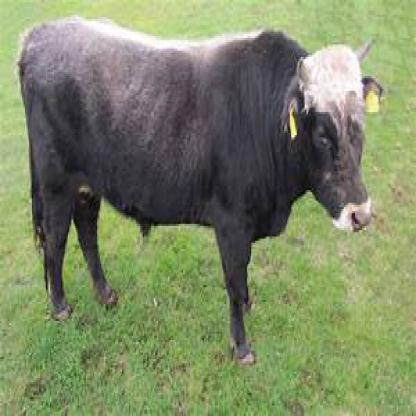cow: (18, 17, 384, 365)
